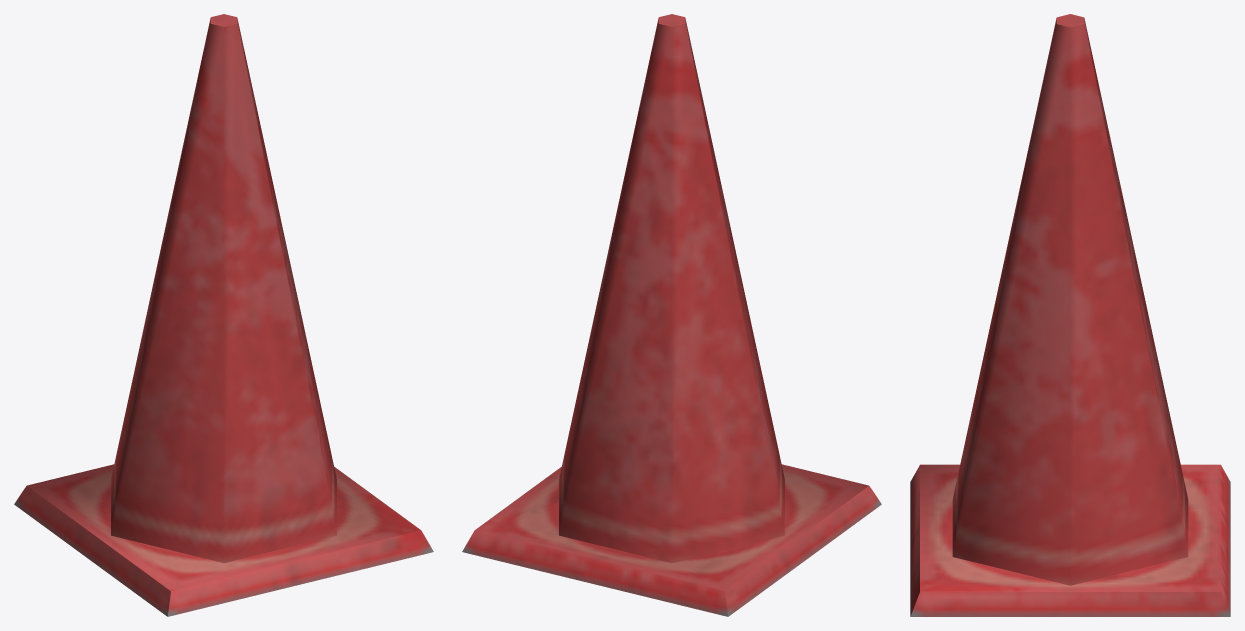
Rendered from jctlowRoadConeA.fbx.
The picture shows the model from 3 angles, left to right: view 1: azimuth 30°, elevation 25°; view 2: azimuth 150°, elevation 25°; view 3: azimuth 270°, elevation 25°; orthographic projection. The views are drawn at different scales.
Parts seen in each view (by area): view 1: jctlowRoadConeA; view 2: jctlowRoadConeA; view 3: jctlowRoadConeA.
Boxes of the visible parts, box(x1,y1,x2,y2) form: jctlowRoadConeA: box(14, 14, 433, 616); jctlowRoadConeA: box(462, 14, 881, 616); jctlowRoadConeA: box(910, 14, 1230, 616).
Bounding box in the file's own units: 40 × 72.9 × 40.
Materials: 1 (1 with a texture image).
